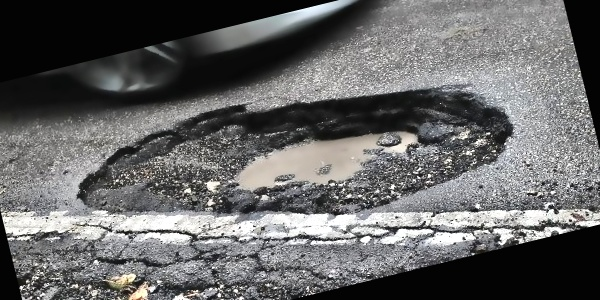pothole: (60, 38, 526, 279)
